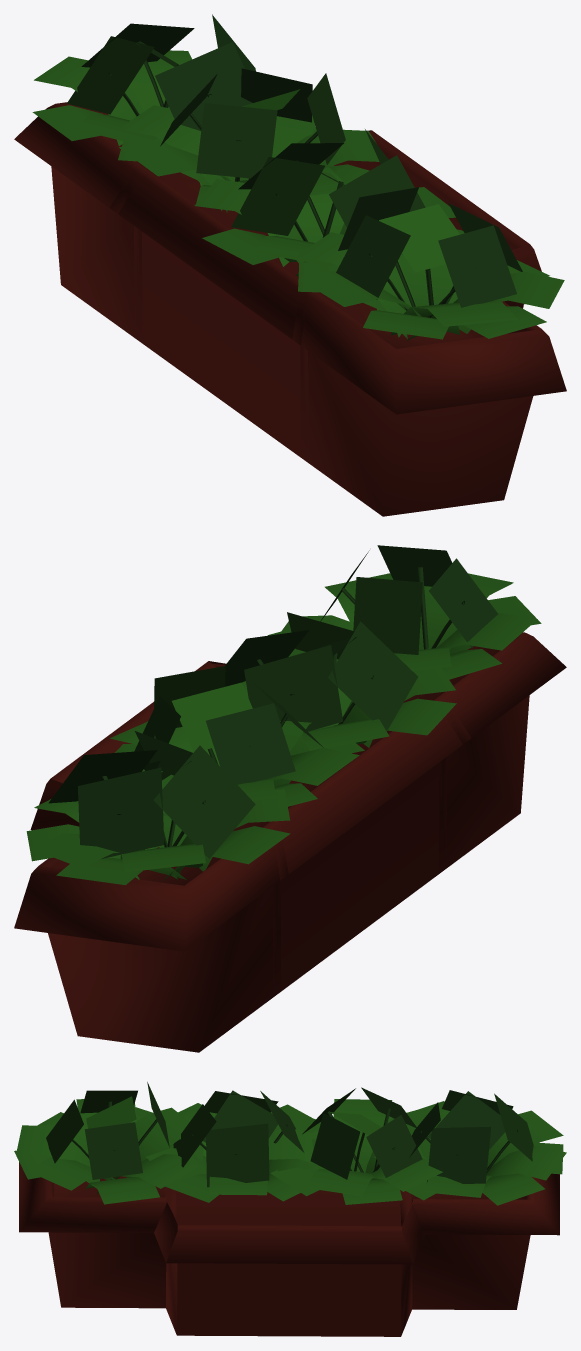
The model's file is PlantHangerLong.fbx.
The picture shows the model from 3 angles, top to bottom: view 1: azimuth 30°, elevation 25°; view 2: azimuth 150°, elevation 25°; view 3: azimuth 270°, elevation 25°; orthographic projection. The views are drawn at different scales.
Visible parts, largest first — view 1: PlantHangerLong; view 2: PlantHangerLong; view 3: PlantHangerLong.
Boxes of the visible parts, bbox=[...] form: PlantHangerLong: bbox=[14, 14, 566, 516]; PlantHangerLong: bbox=[14, 545, 566, 1052]; PlantHangerLong: bbox=[14, 1082, 566, 1336].
Bounding box in the file's own units: 0.4686 × 1.11 × 0.4431.
